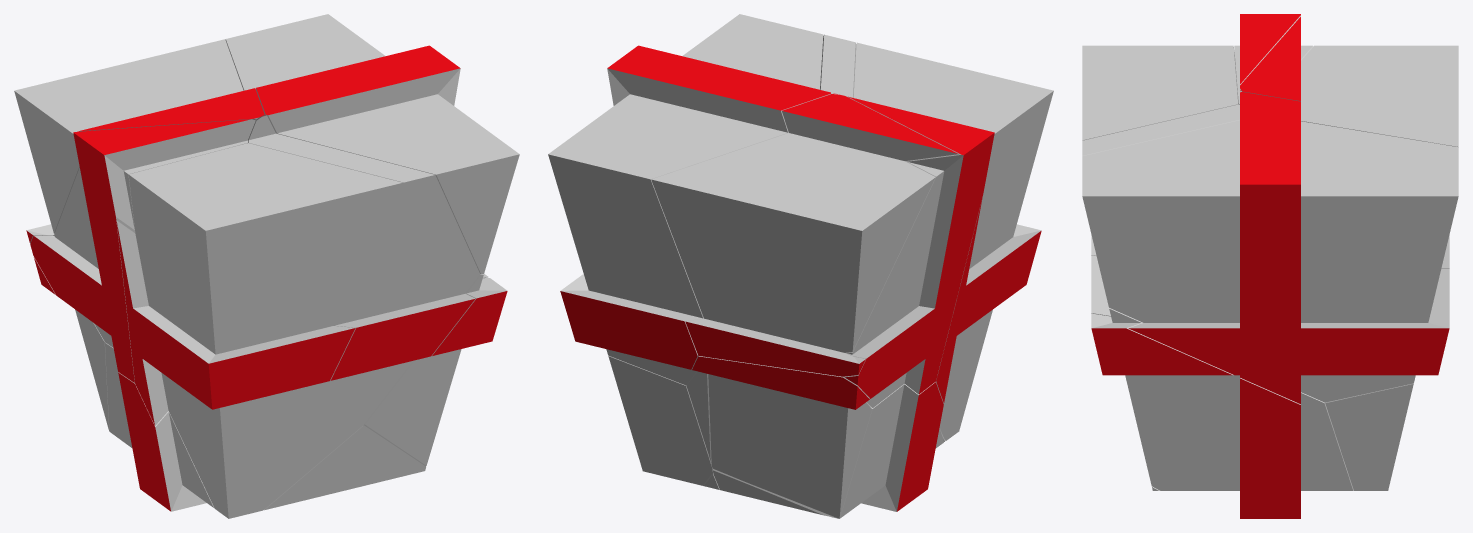
File: QuickHealDestroyed.fbx
3 views of the same model, side by side, from view 1: azimuth 30°, elevation 25°; view 2: azimuth 150°, elevation 25°; view 3: azimuth 270°, elevation 25° (orthographic).
Parts seen in each view (by area): view 1: CnockHeal_cell.005, CnockHeal_cell.002, CnockHeal_cell.004, CnockHeal_cell.008, CnockHeal_cell, CnockHeal_cell.006, CnockHeal_cell.003, CnockHeal_cell.007, CnockHeal_cell.001; view 2: CnockHeal_cell.008, CnockHeal_cell.002, CnockHeal_cell.005, CnockHeal_cell, CnockHeal_cell.001, CnockHeal_cell.003, CnockHeal_cell.009, CnockHeal_cell.004; view 3: CnockHeal_cell.002, CnockHeal_cell.006, CnockHeal_cell.008, CnockHeal_cell.005, CnockHeal_cell.009, CnockHeal_cell.004, CnockHeal_cell.
Boxes of the visible parts, bbox=[...] form: CnockHeal_cell.005: bbox=[116, 143, 402, 518]; CnockHeal_cell.002: bbox=[225, 14, 519, 278]; CnockHeal_cell.004: bbox=[213, 115, 480, 515]; CnockHeal_cell.008: bbox=[14, 39, 264, 243]; CnockHeal_cell: bbox=[30, 119, 255, 382]; CnockHeal_cell.006: bbox=[363, 275, 507, 466]; CnockHeal_cell.003: bbox=[105, 342, 213, 511]; CnockHeal_cell.007: bbox=[264, 425, 425, 510]; CnockHeal_cell.001: bbox=[34, 257, 109, 431]; CnockHeal_cell.008: bbox=[651, 94, 958, 376]; CnockHeal_cell.002: bbox=[548, 14, 830, 385]; CnockHeal_cell.005: bbox=[853, 42, 1053, 440]; CnockHeal_cell: bbox=[842, 96, 994, 408]; CnockHeal_cell.001: bbox=[692, 356, 872, 518]; CnockHeal_cell.003: bbox=[713, 382, 943, 518]; CnockHeal_cell.009: bbox=[608, 356, 712, 485]; CnockHeal_cell.004: bbox=[686, 34, 944, 463]; CnockHeal_cell.002: bbox=[1082, 92, 1458, 404]; CnockHeal_cell.006: bbox=[1091, 308, 1353, 518]; CnockHeal_cell.008: bbox=[1240, 17, 1458, 268]; CnockHeal_cell.005: bbox=[1082, 45, 1238, 255]; CnockHeal_cell.009: bbox=[1325, 383, 1413, 490]; CnockHeal_cell.004: bbox=[1082, 90, 1241, 316]; CnockHeal_cell: bbox=[1234, 14, 1313, 104].
Size of the model in its own units: 113 by 113 by 106.
